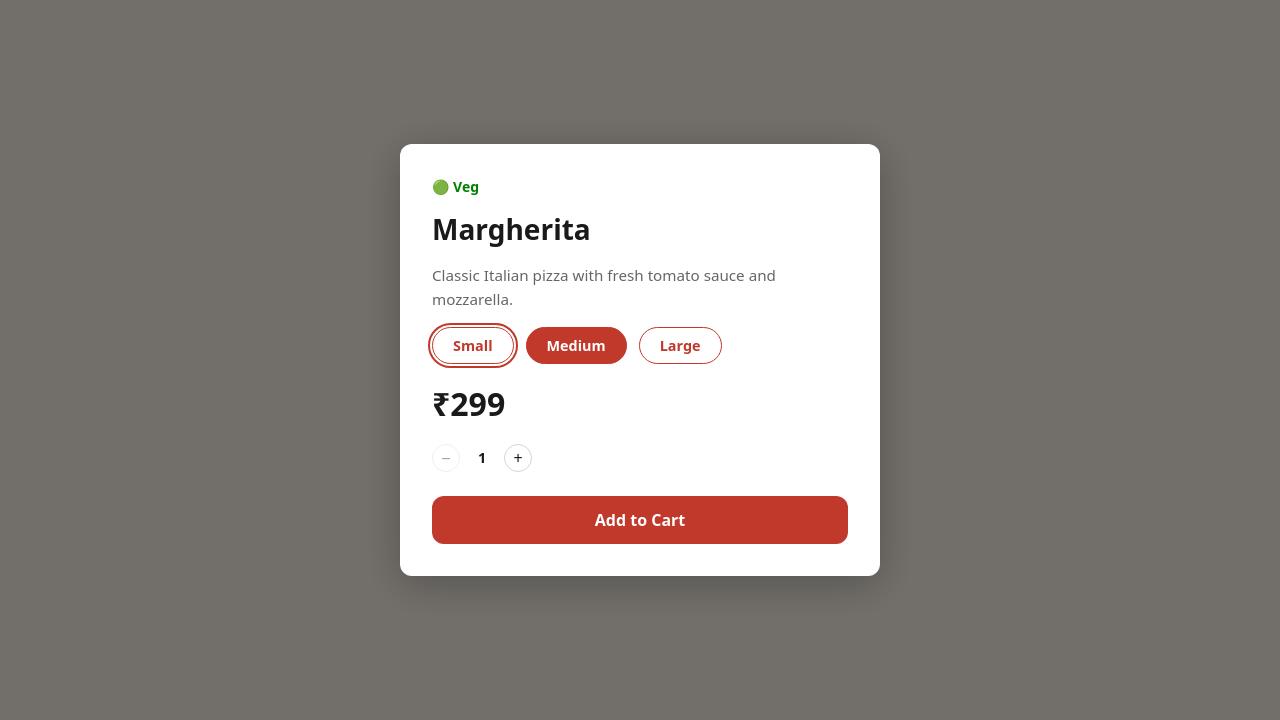
Test case: PizzaDetailModal – quantity stepper › clicking + increments quantity to 2
Click the button named "Increase quantity" at x=518, y=458, box [504,444,532,472]
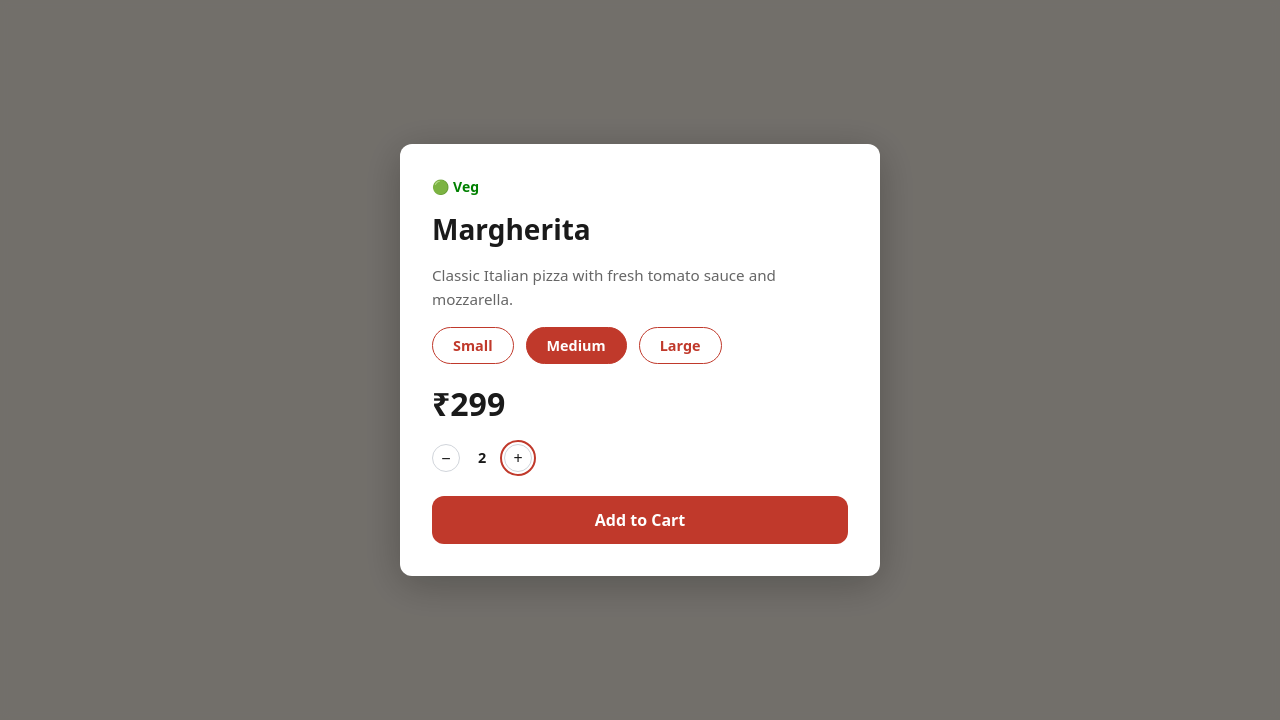
Expected: the text "2" is shown, [478,448,486,467]
